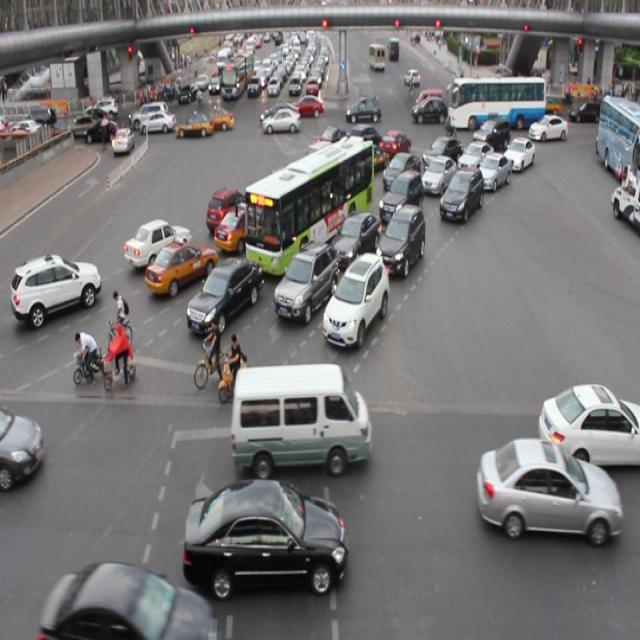car: (184, 478, 346, 590), (475, 437, 620, 542), (42, 558, 220, 640), (536, 384, 640, 467), (12, 252, 101, 320), (323, 254, 386, 346), (186, 258, 263, 331), (274, 244, 336, 319), (146, 238, 216, 294), (124, 218, 191, 270), (1, 408, 42, 486), (378, 203, 423, 272), (329, 211, 381, 269), (214, 204, 276, 251), (274, 182, 328, 228), (439, 168, 482, 223), (378, 170, 422, 222), (206, 188, 255, 234), (257, 169, 303, 208), (381, 153, 420, 197), (422, 136, 462, 176), (326, 157, 366, 194), (472, 118, 509, 157), (346, 124, 382, 162), (475, 152, 508, 193), (421, 156, 456, 194), (457, 141, 492, 179), (353, 143, 388, 173), (504, 137, 532, 172), (378, 129, 409, 158), (318, 127, 347, 157)
truck: (231, 365, 370, 471), (296, 140, 341, 182)
van: (243, 140, 372, 274)
